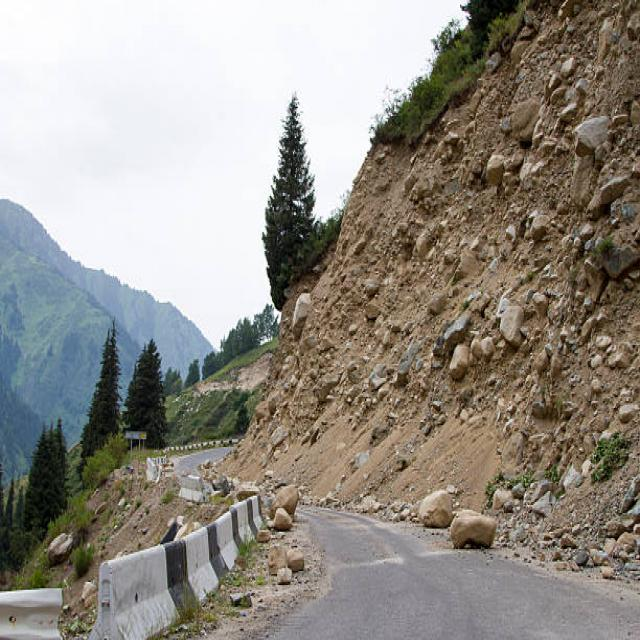landSliding: (204, 329, 591, 582)
